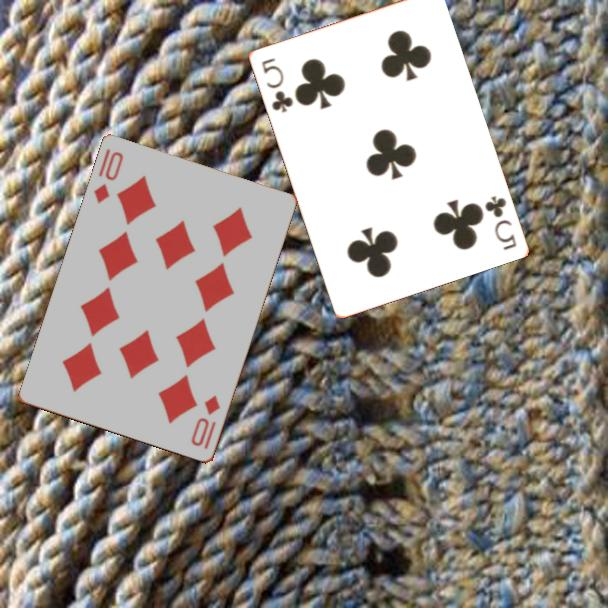c05: (258, 54, 296, 116), (481, 192, 519, 253)
d10: (90, 145, 126, 207), (188, 392, 223, 453)
